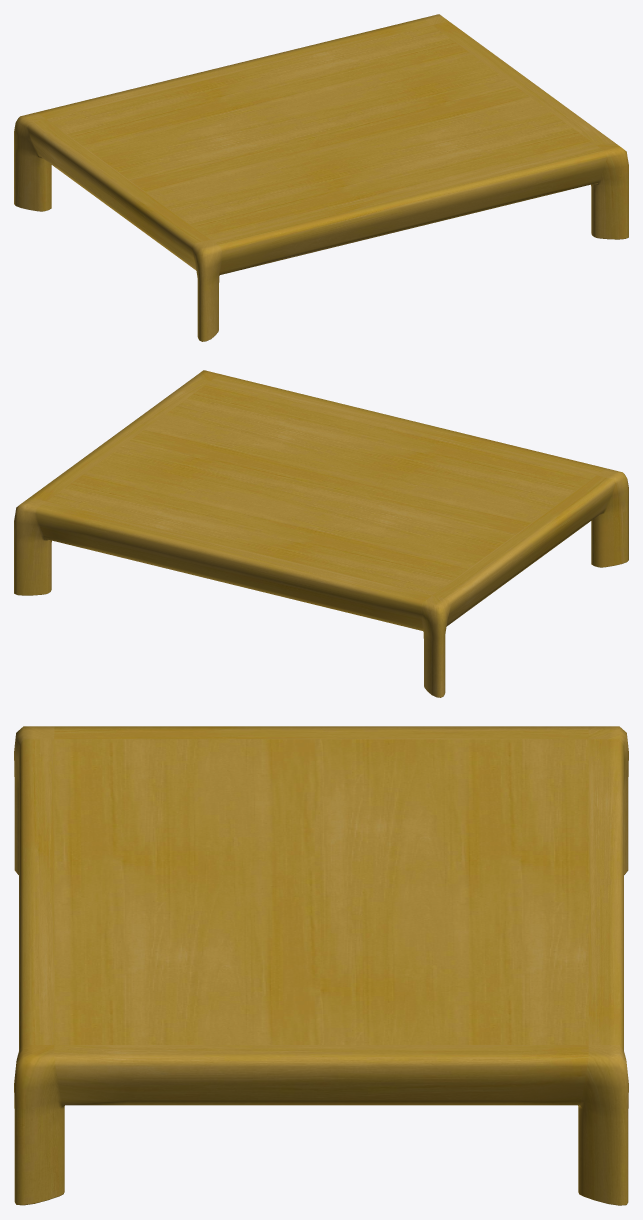
Rendered from outdoor_little_table.obj.
3 renders of one model, top to bottom at view 1: azimuth 30°, elevation 25°; view 2: azimuth 150°, elevation 25°; view 3: azimuth 270°, elevation 25°, orthographic. The views are drawn at different scales.
Parts seen in each view (by area): view 1: mesita_ext2_Cube.012; view 2: mesita_ext2_Cube.012; view 3: mesita_ext2_Cube.012.
Part boxes in pixels (<box>): mesita_ext2_Cube.012: <box>14,14,628,341</box>; mesita_ext2_Cube.012: <box>14,370,628,697</box>; mesita_ext2_Cube.012: <box>14,726,628,1205</box>.
Bounding box in the file's own units: 99.81 × 19.75 × 76.35.
1 material, 1 textured.
